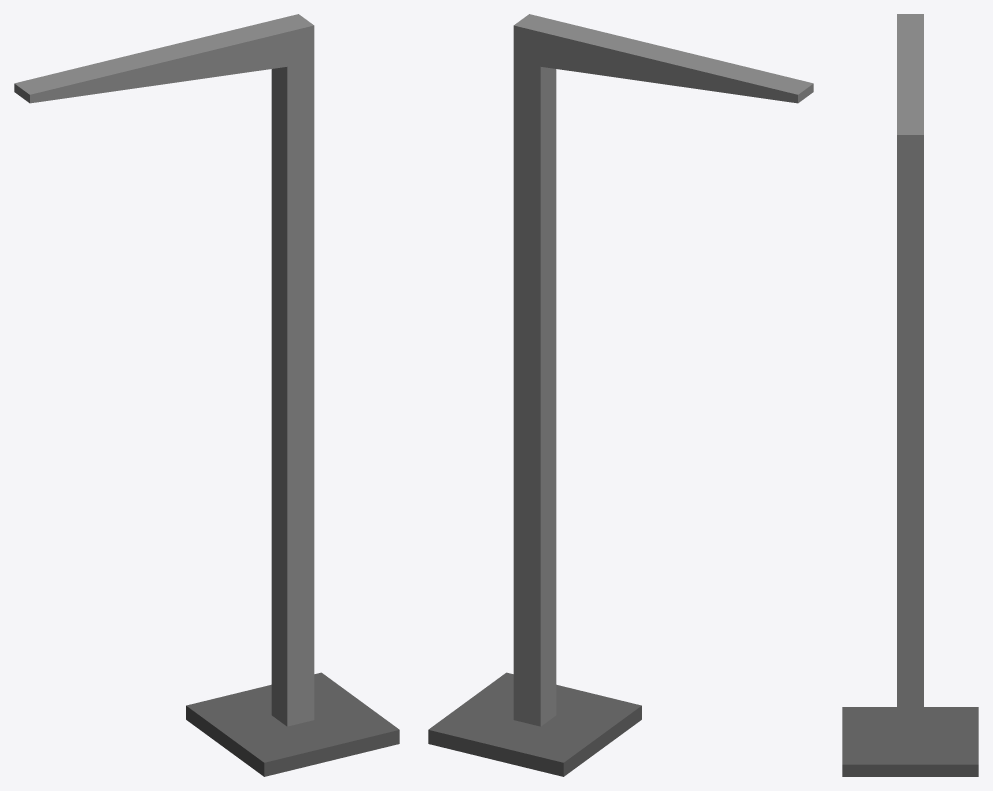
The model's file is Lamp_Side.obj.
3 views of the same model, side by side, from view 1: azimuth 30°, elevation 25°; view 2: azimuth 150°, elevation 25°; view 3: azimuth 270°, elevation 25° (orthographic). The views are drawn at different scales.
Visible parts, largest first — view 1: Lamp_Side_Plane.003; view 2: Lamp_Side_Plane.003; view 3: Lamp_Side_Plane.003.
Boxes of the visible parts, <box> form: Lamp_Side_Plane.003: <box>14,14,399,776</box>; Lamp_Side_Plane.003: <box>428,14,813,776</box>; Lamp_Side_Plane.003: <box>842,14,978,776</box>.
Bounding box in the file's own units: 2.5 × 5 × 1.
Materials: 1 (1 with a texture image).
